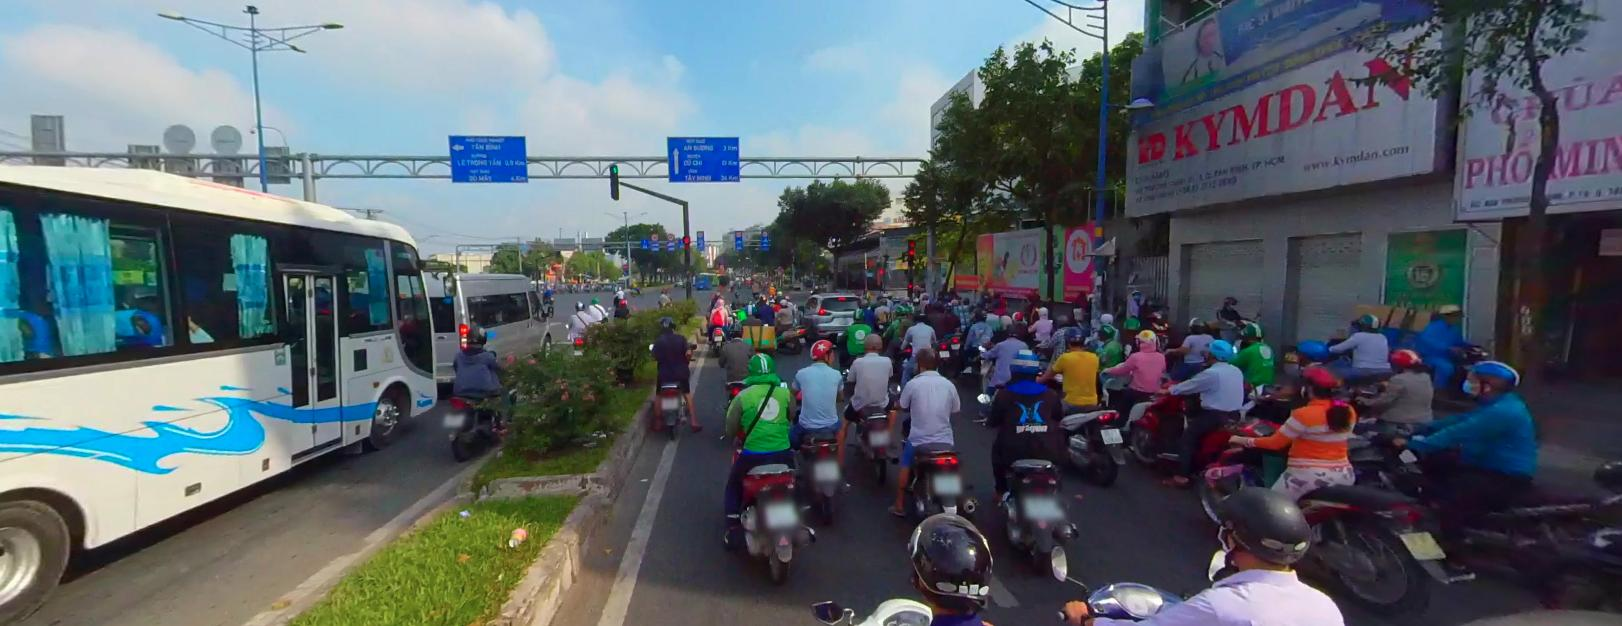Gioi han toc do: (650, 232, 657, 239), (666, 232, 673, 238), (762, 229, 768, 234), (735, 230, 740, 234), (698, 230, 702, 234)
